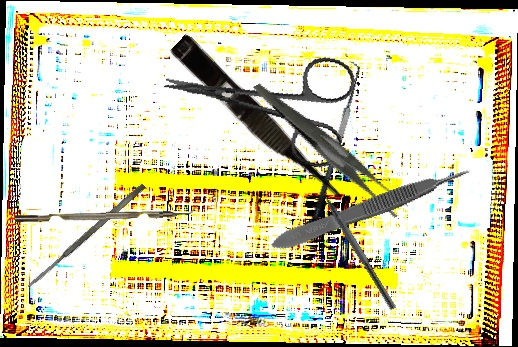Chopper: (310, 173, 406, 312), (14, 202, 198, 223)
Dressing Forceps: (253, 50, 410, 246)
Iris Scissors: (154, 24, 359, 172)
Micro Scissor: (165, 32, 354, 216)
Spatula Surgical: (25, 182, 147, 290), (298, 60, 369, 221)
Tissue Forceps: (267, 162, 476, 255)
